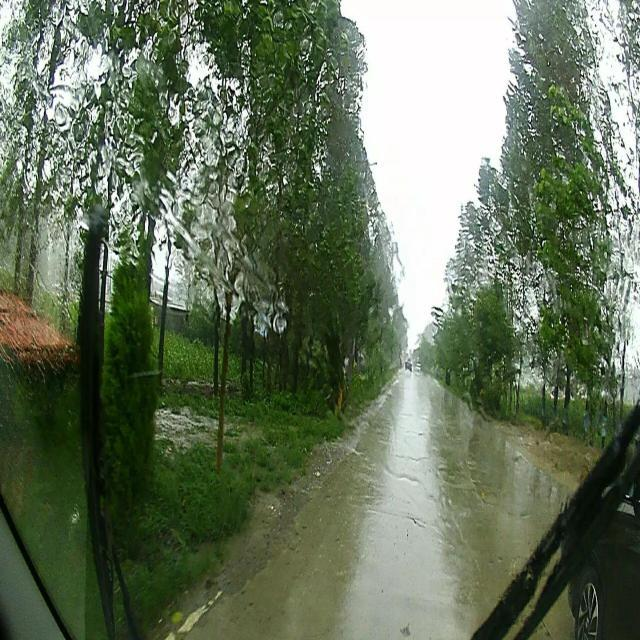car: (404, 352, 412, 370), (414, 360, 422, 370)
